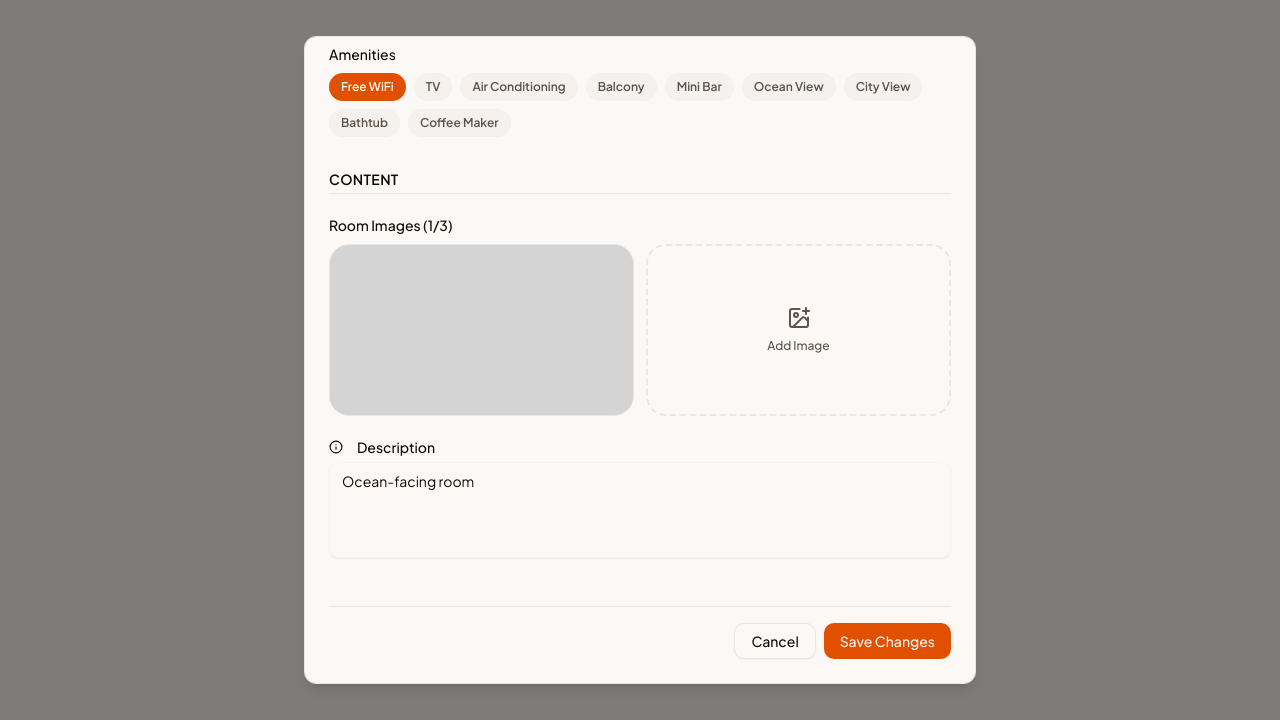
Test case: HotelServicePointModal › validates code, room type, guests, price, invalid bed counts, and duplicate beds
The width and height of the screenshot is (1280, 720).
(page scrolled)
Click the button "Save Changes": x=887, y=641 [824,623,951,659]
(page scrolled)
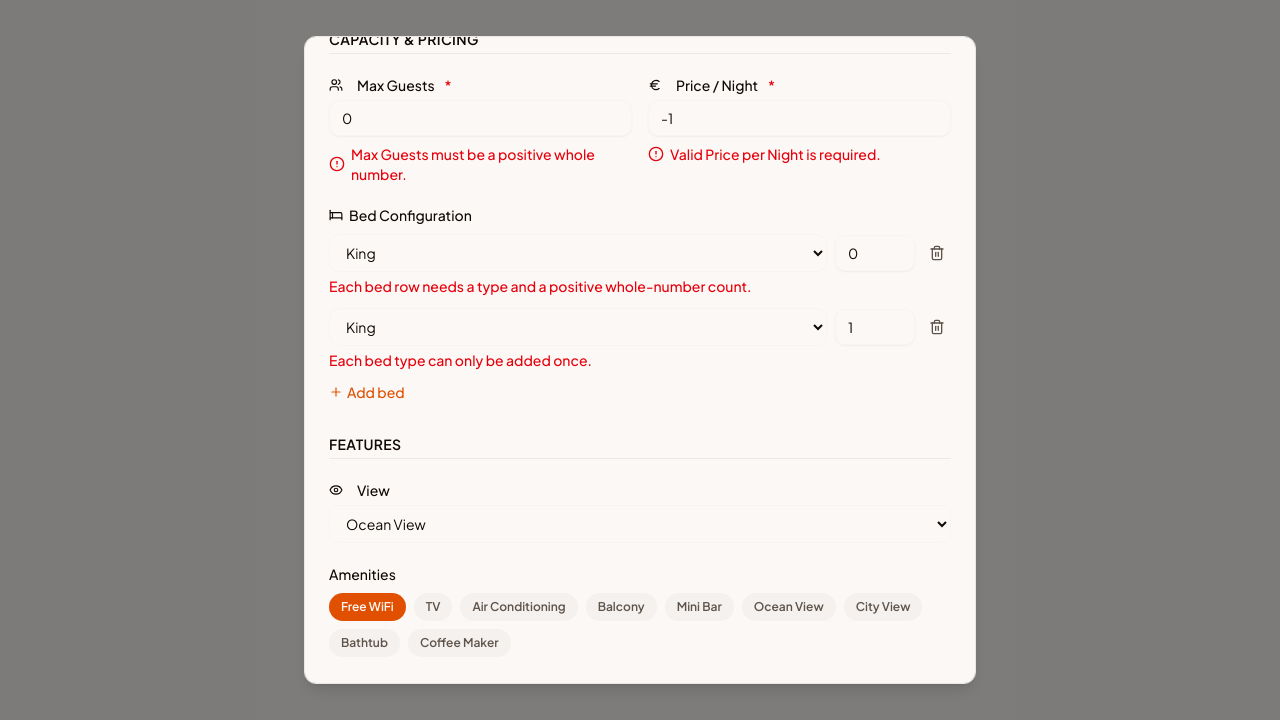
Expected: the text "Max Guests must be a positive whole number." is shown, [329,144,632,184]
Expected: the text "Valid Price per Night is required." is shown, [648,145,881,163]
Expected: the text "Each bed row needs a type and a positive whole-number count." is shown, [329,277,752,295]
